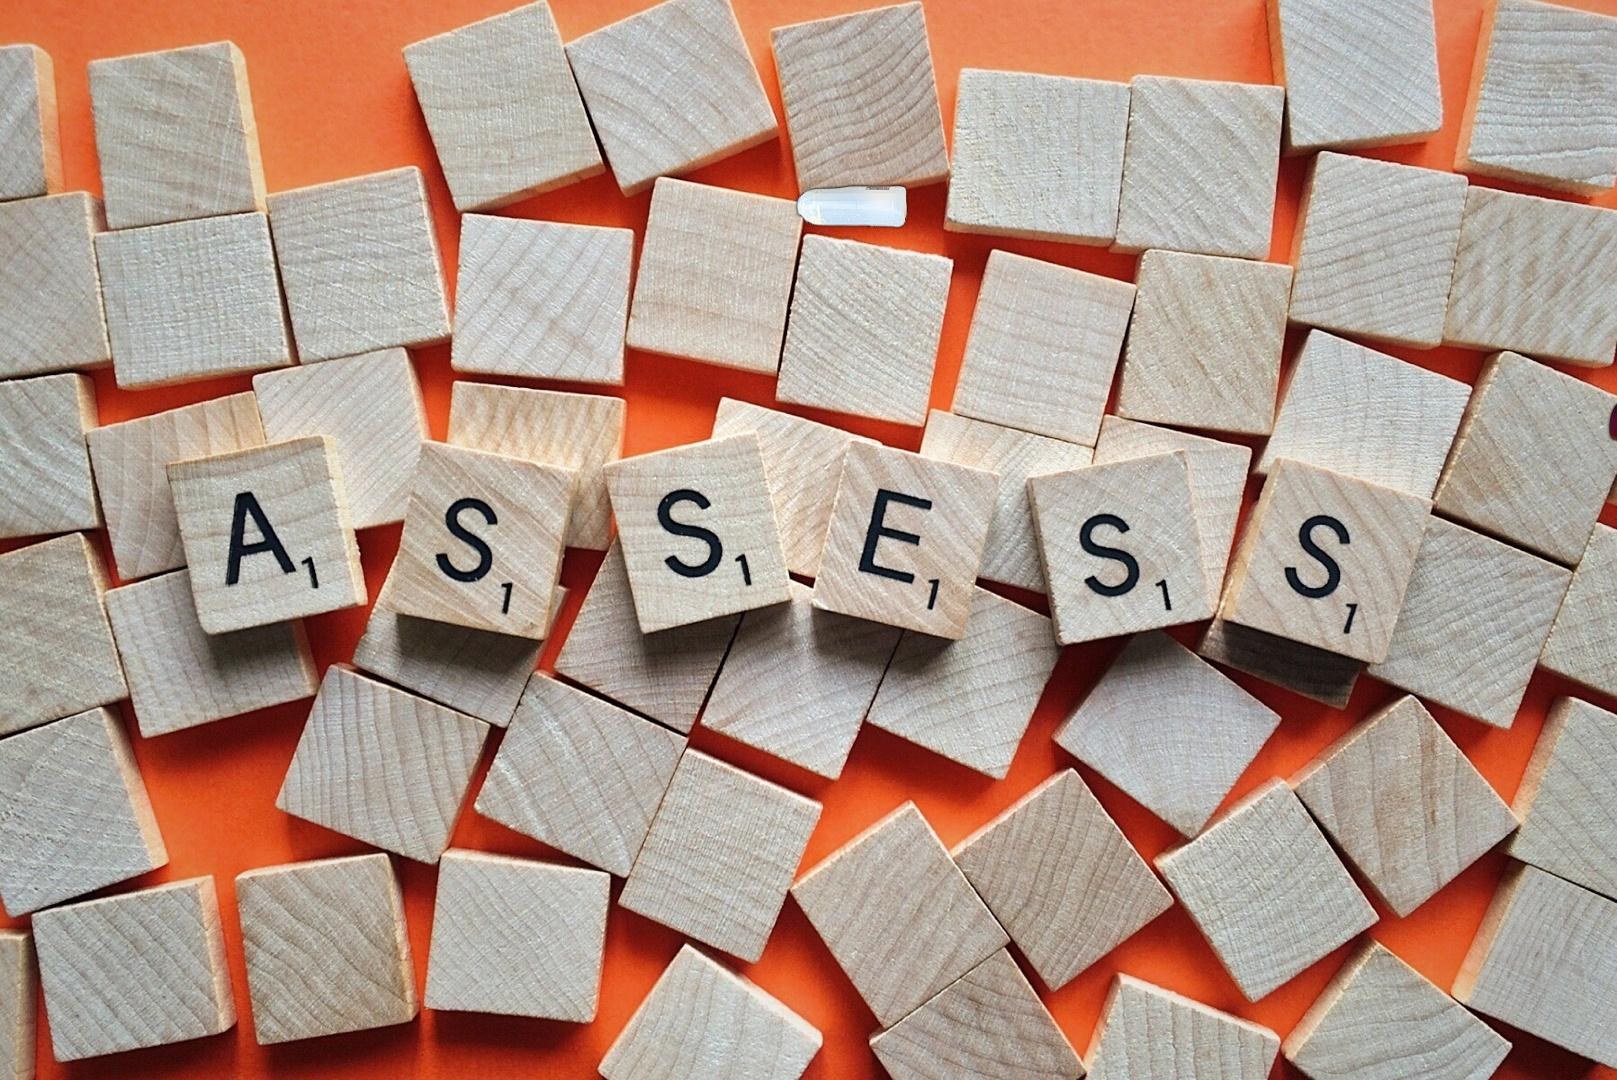glass: (1604, 391, 1617, 521)
plastic-bottles: (792, 180, 912, 234)
